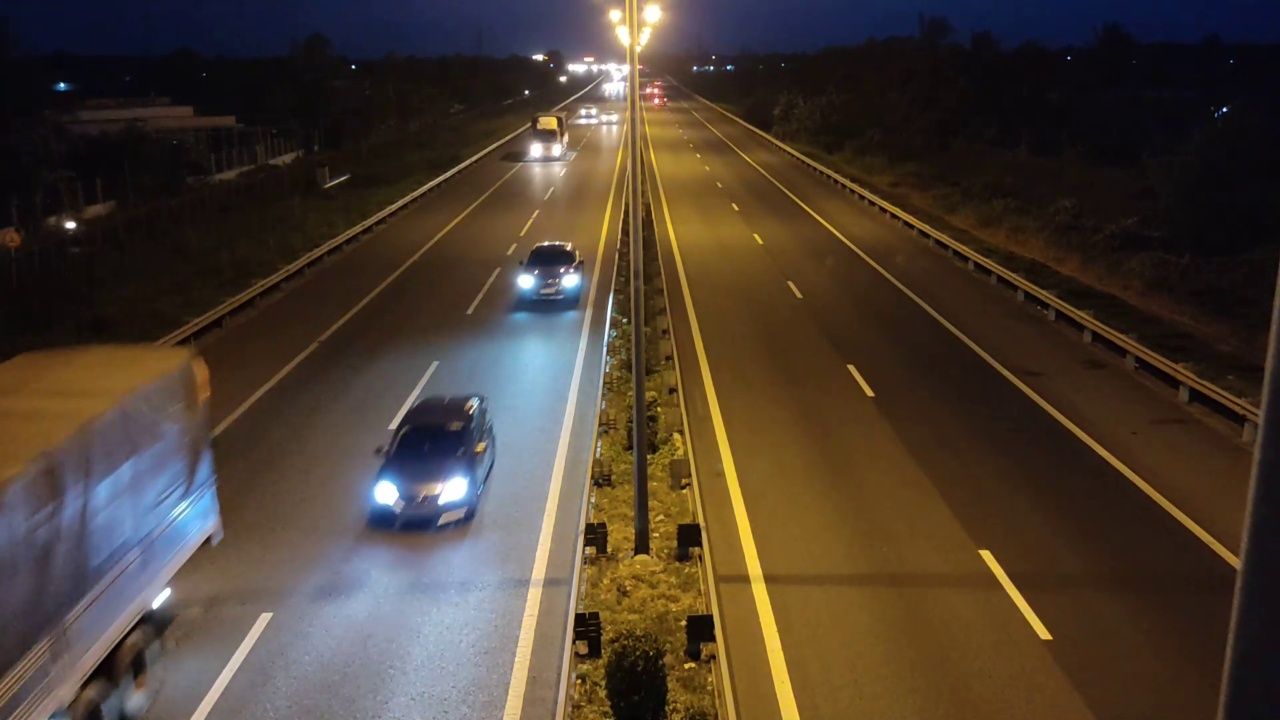car: (367, 393, 497, 531), (513, 241, 586, 308)
